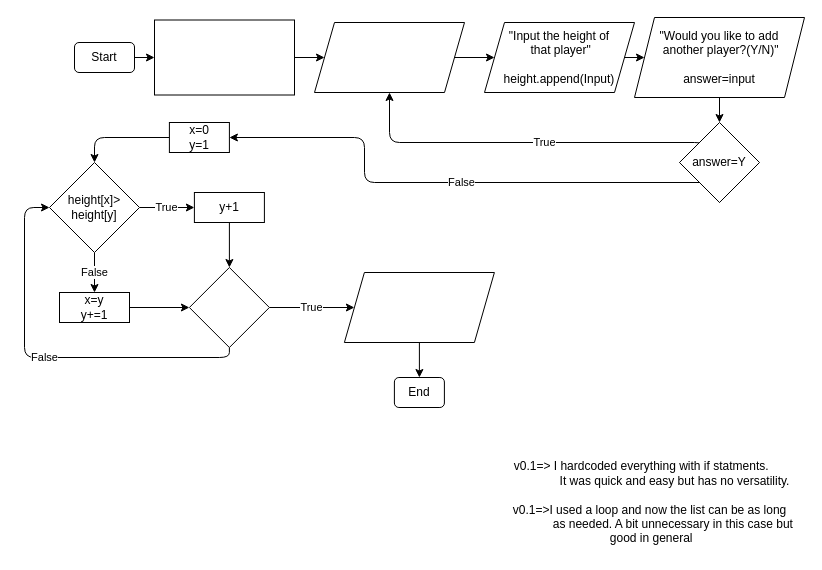
Image size: 822x570. Some labels were removed from this diagram. Here are the shapes that lost their labels. From the top down, the box of each, then its label:
(154, 19, 294, 95): Declare the lists: name=[] and height=[]
(314, 22, 464, 92): "Input the name of a player" name.append(Input)
(188, 266, 269, 348): y<len(height)
(343, 272, 494, 342): "(name[x]) is the tallest player with a height of (height[x])"
